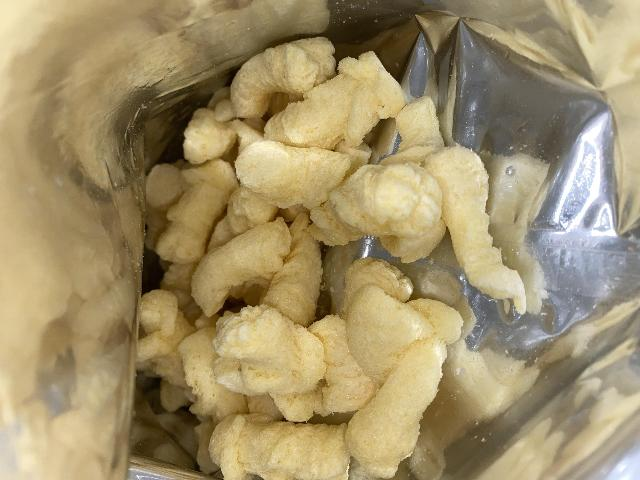Organik: (394, 119, 543, 325), (143, 159, 243, 267), (233, 310, 335, 414), (346, 359, 446, 460), (324, 163, 448, 243), (194, 219, 289, 306), (224, 56, 332, 130), (335, 283, 435, 357), (140, 294, 211, 397), (186, 327, 260, 421), (294, 86, 392, 152), (248, 141, 346, 205), (179, 113, 235, 163)
